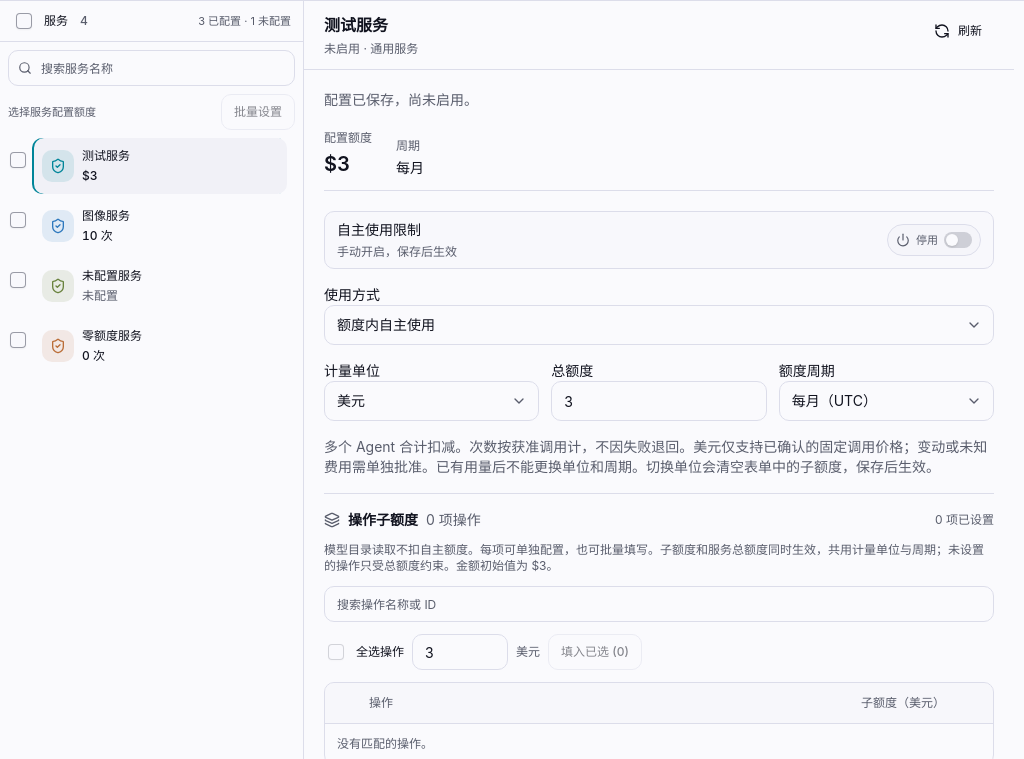
Scenario: shows saved configuration amounts independently of activation and distinguishes defaults
Expected: the button with aria-label "测试服务 自主额度" shows "$3", [32, 138, 287, 194]
Expected: the button with aria-label "未配置服务 自主额度" shows "未配置", [32, 258, 287, 314]
Type "图像" into the field named "搜索额度服务" at (152, 68), box [8, 50, 295, 86]
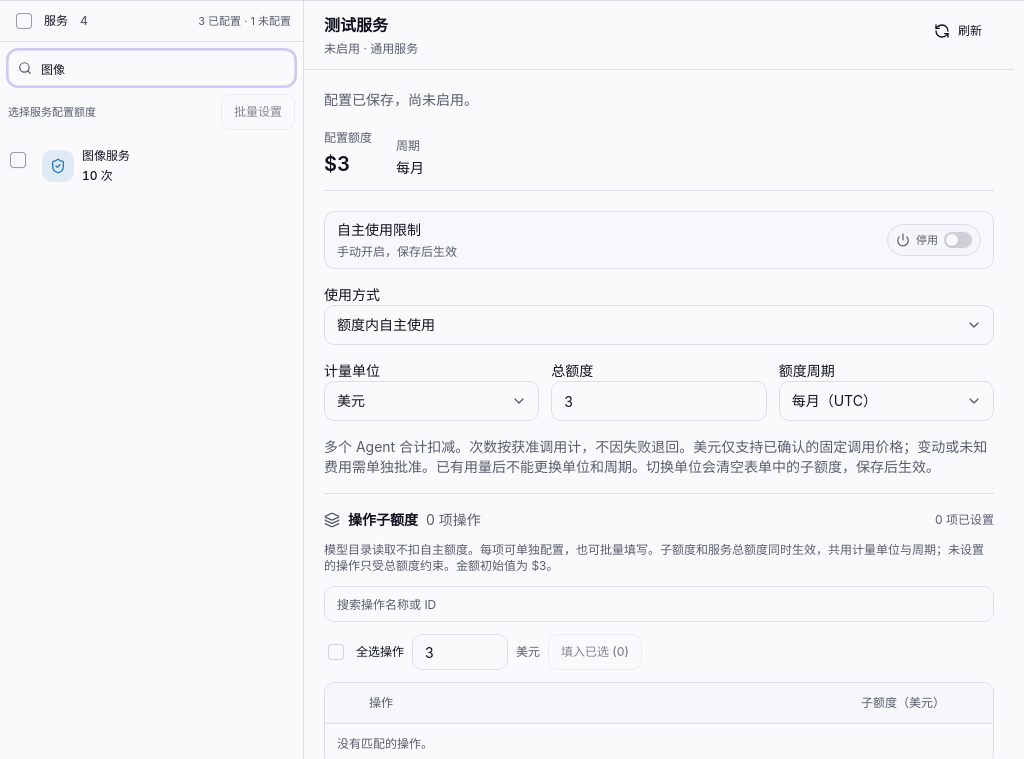
Click the button with aria-label "图像服务 自主额度" at (160, 166), box [32, 138, 287, 194]
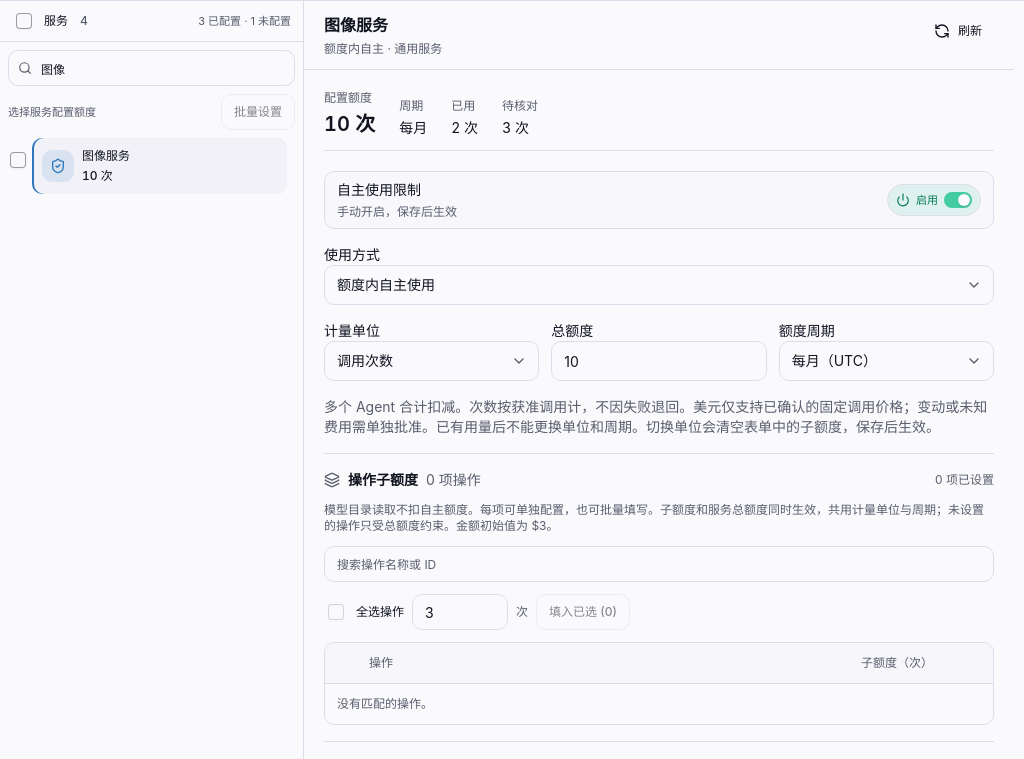
Result: the heading "图像服务" is shown at [324, 15, 388, 35]
Result: the number field labelled "总额度" holds "10" at [551, 341, 767, 381]
Result: the switch named "启用此服务的自主使用限制" is checked at [887, 184, 981, 216]
